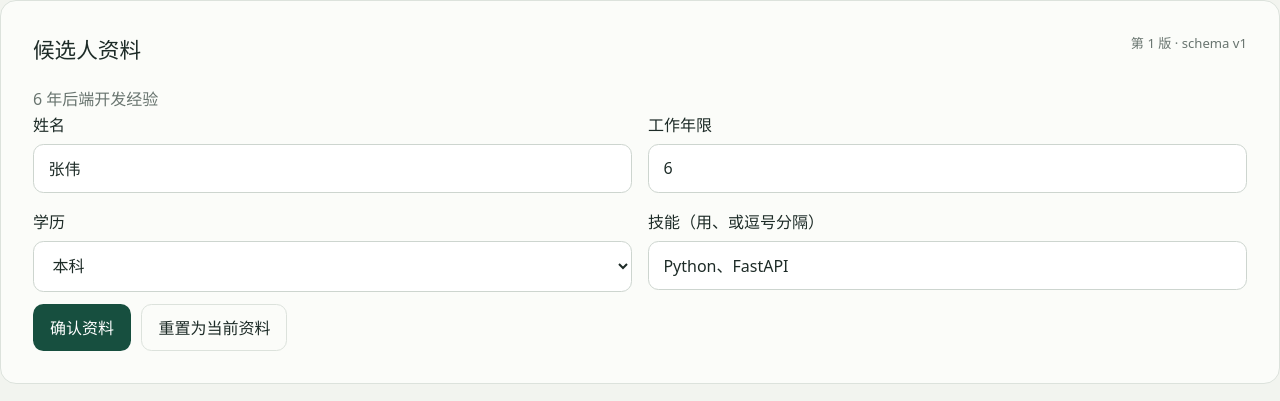
ProfileForm › restores the extracted values when the reviewer resets
Replace the text in the field labelled "姓名" with "写错了" at (332, 168), box [33,144,632,193]
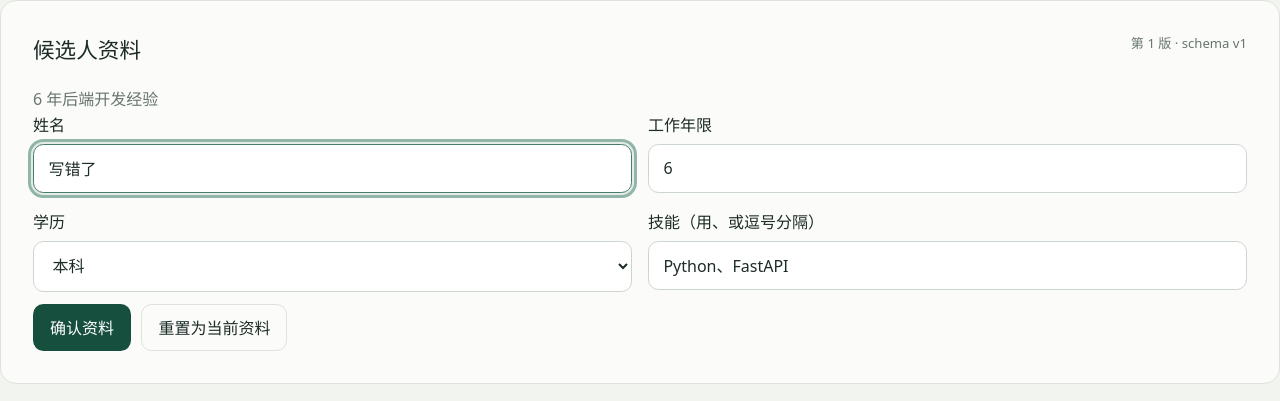
Click the button "重置为当前资料".
click(214, 327)  # box [141,304,287,351]
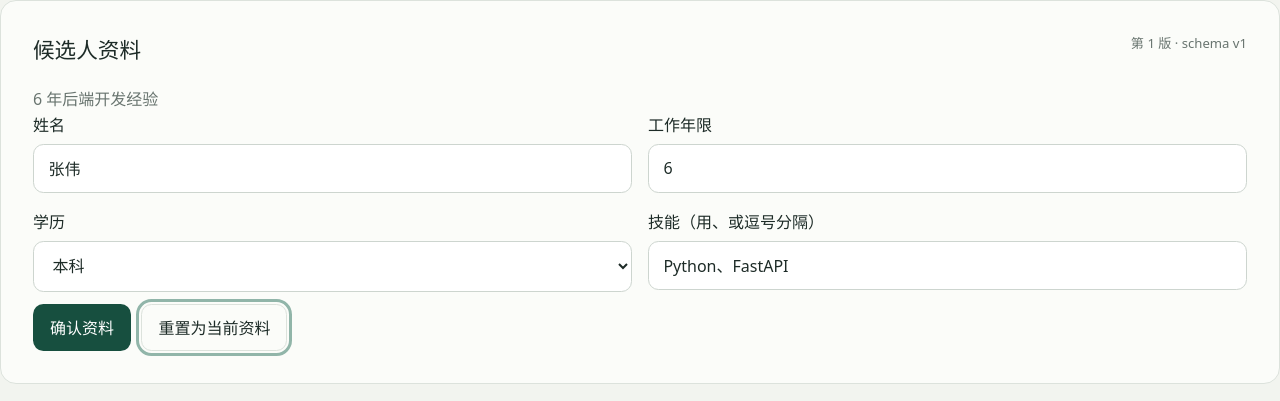
Result: the field labelled "姓名" holds "张伟" at [33,144,632,193]
